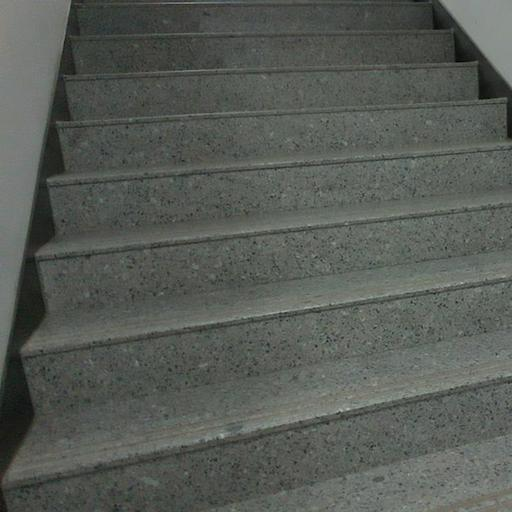stairs: (3, 0, 511, 511)
